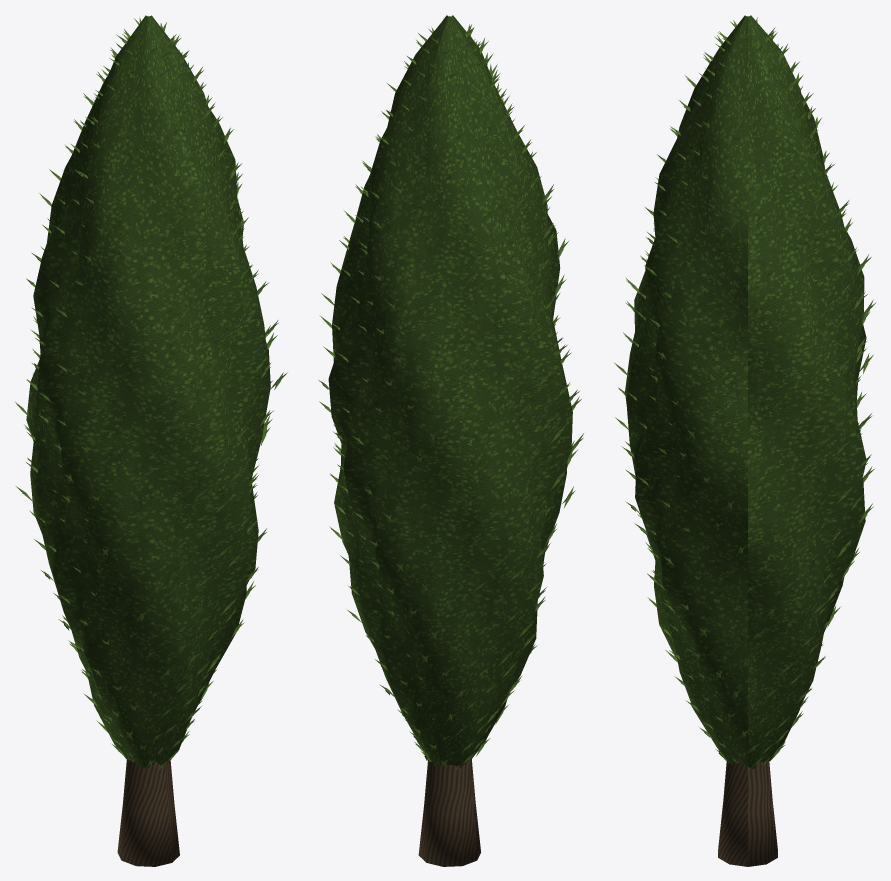
Rendered from cypress.glb.
3 views of the same model, side by side, from view 1: azimuth 30°, elevation 25°; view 2: azimuth 150°, elevation 25°; view 3: azimuth 270°, elevation 25° (orthographic).
Visible parts, largest first — view 1: Garden_cypress.001; view 2: Garden_cypress.001; view 3: Garden_cypress.001.
Boxes of the visible parts, x1,y1,x2,y2 form: Garden_cypress.001: [15, 15, 287, 866]; Garden_cypress.001: [318, 15, 583, 866]; Garden_cypress.001: [614, 15, 875, 866].
Bounding box in the file's own units: 1.44 × 5 × 1.43.
3 materials, 3 textured.
